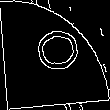O_W: (29, 31, 81, 79)
